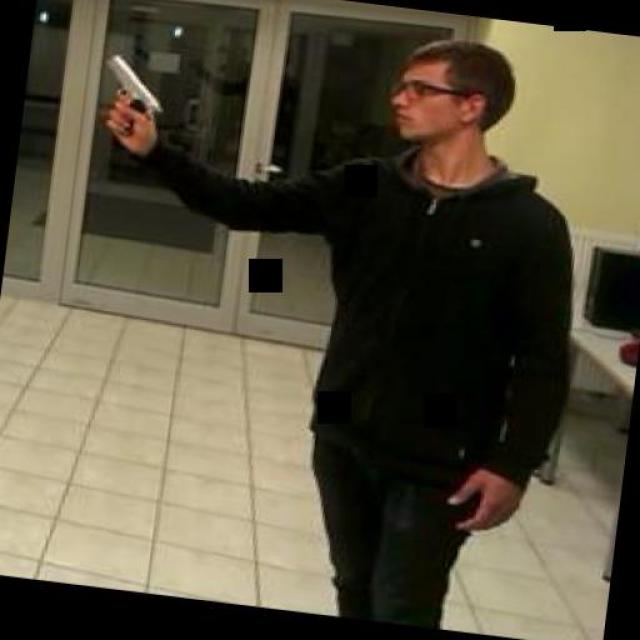gun: (90, 48, 172, 144)
